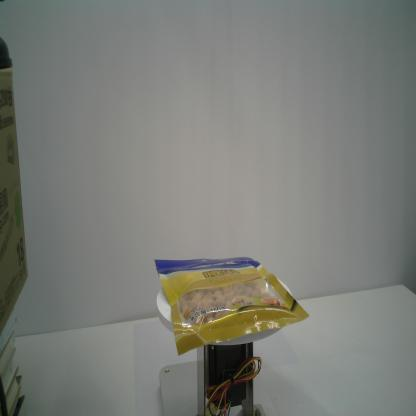Dried Fruit: (153, 256, 312, 359)
